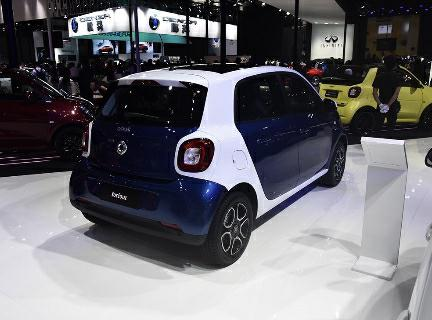smart-forfour: (73, 57, 346, 265)
